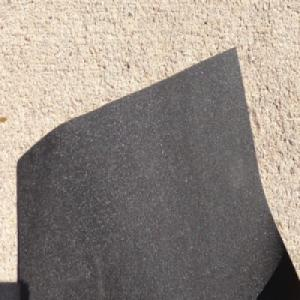PaintChip: (16, 42, 288, 300)
